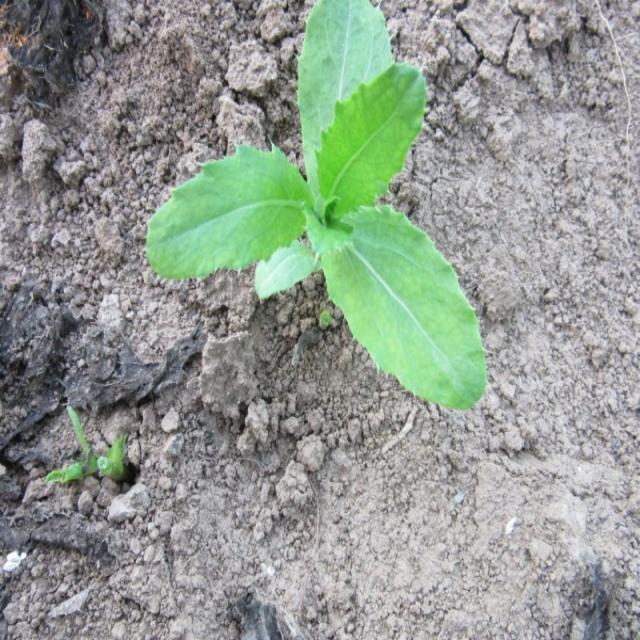cs: (145, 0, 489, 415)
